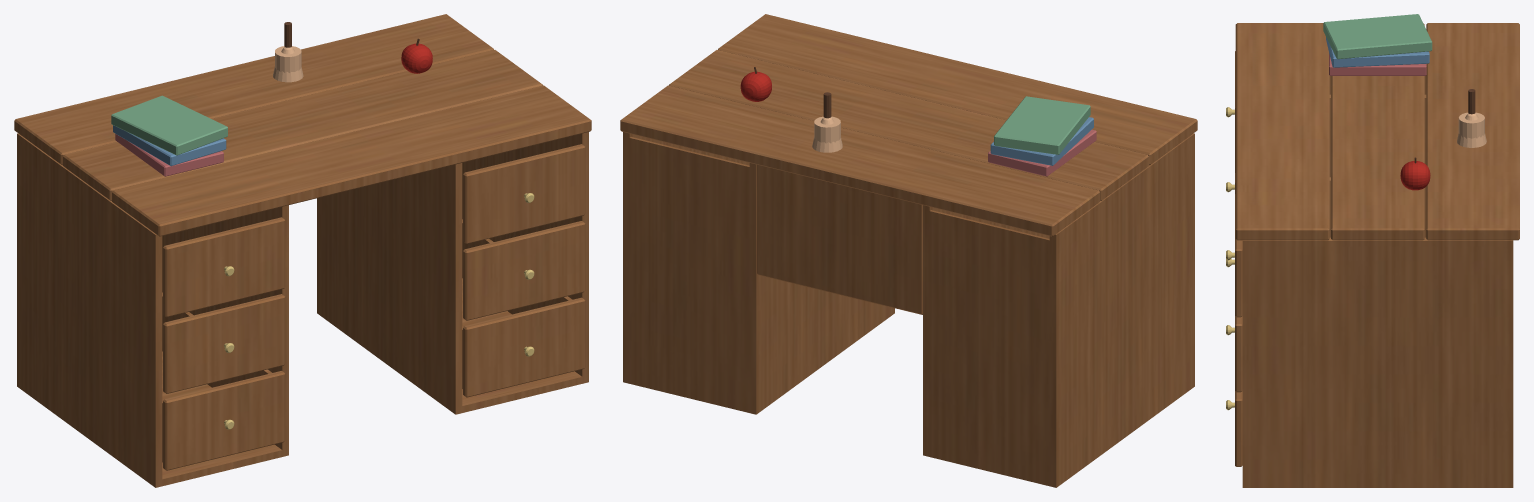
Rendered from mesa_professor.glb.
3 views of the same model, side by side, from view 1: azimuth 30°, elevation 25°; view 2: azimuth 150°, elevation 25°; view 3: azimuth 270°, elevation 25° (orthographic). The views are drawn at different scales.
Parts seen in each view (by area): view 1: mesa_professor_madeira, mesa_professor_gaveta_dir_1_madeira, mesa_professor_gaveta_esq_1_madeira, mesa_professor_livro_3, mesa_professor_livro_2, mesa_professor_livro_1, mesa_professor_cobre, mesa_professor_tinta_vermelha; view 2: mesa_professor_madeira, mesa_professor_livro_3, mesa_professor_livro_1, mesa_professor_livro_2, mesa_professor_cobre, mesa_professor_tinta_vermelha; view 3: mesa_professor_madeira, mesa_professor_livro_3, mesa_professor_livro_2, mesa_professor_livro_1, mesa_professor_cobre, mesa_professor_tinta_vermelha, mesa_professor_gaveta_dir_1_madeira.
Boxes of the visible parts, box(x1,y1,x2,y2) form: mesa_professor_madeira: box(14, 14, 591, 487); mesa_professor_gaveta_dir_1_madeira: box(462, 219, 585, 397); mesa_professor_gaveta_esq_1_madeira: box(162, 292, 285, 470); mesa_professor_livro_3: box(111, 95, 227, 155); mesa_professor_livro_2: box(113, 125, 226, 166); mesa_professor_livro_1: box(115, 134, 223, 176); mesa_professor_cobre: box(273, 46, 303, 82); mesa_professor_tinta_vermelha: box(401, 43, 432, 73); mesa_professor_madeira: box(620, 14, 1197, 487); mesa_professor_livro_3: box(994, 96, 1090, 154); mesa_professor_livro_1: box(988, 129, 1096, 176); mesa_professor_livro_2: box(990, 117, 1093, 165); mesa_professor_cobre: box(812, 116, 842, 152); mesa_professor_tinta_vermelha: box(740, 71, 771, 101); mesa_professor_madeira: box(1235, 23, 1519, 487); mesa_professor_livro_3: box(1323, 14, 1432, 59); mesa_professor_livro_2: box(1326, 37, 1429, 67); mesa_professor_livro_1: box(1329, 53, 1426, 75); mesa_professor_cobre: box(1457, 112, 1486, 147); mesa_professor_tinta_vermelha: box(1400, 161, 1430, 190); mesa_professor_gaveta_dir_1_madeira: box(1235, 391, 1242, 466).
Size of the model in its own units: 1.3 by 0.91 by 0.782.
8 materials, 2 textured.
